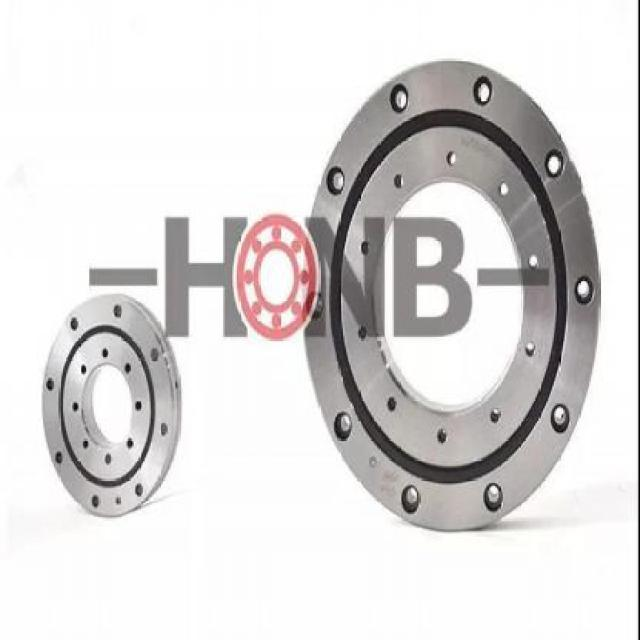Bearing: (296, 57, 605, 532), (36, 291, 180, 517)
